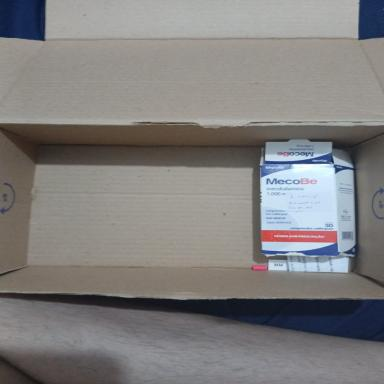Medicamento: (260, 140, 356, 257)
